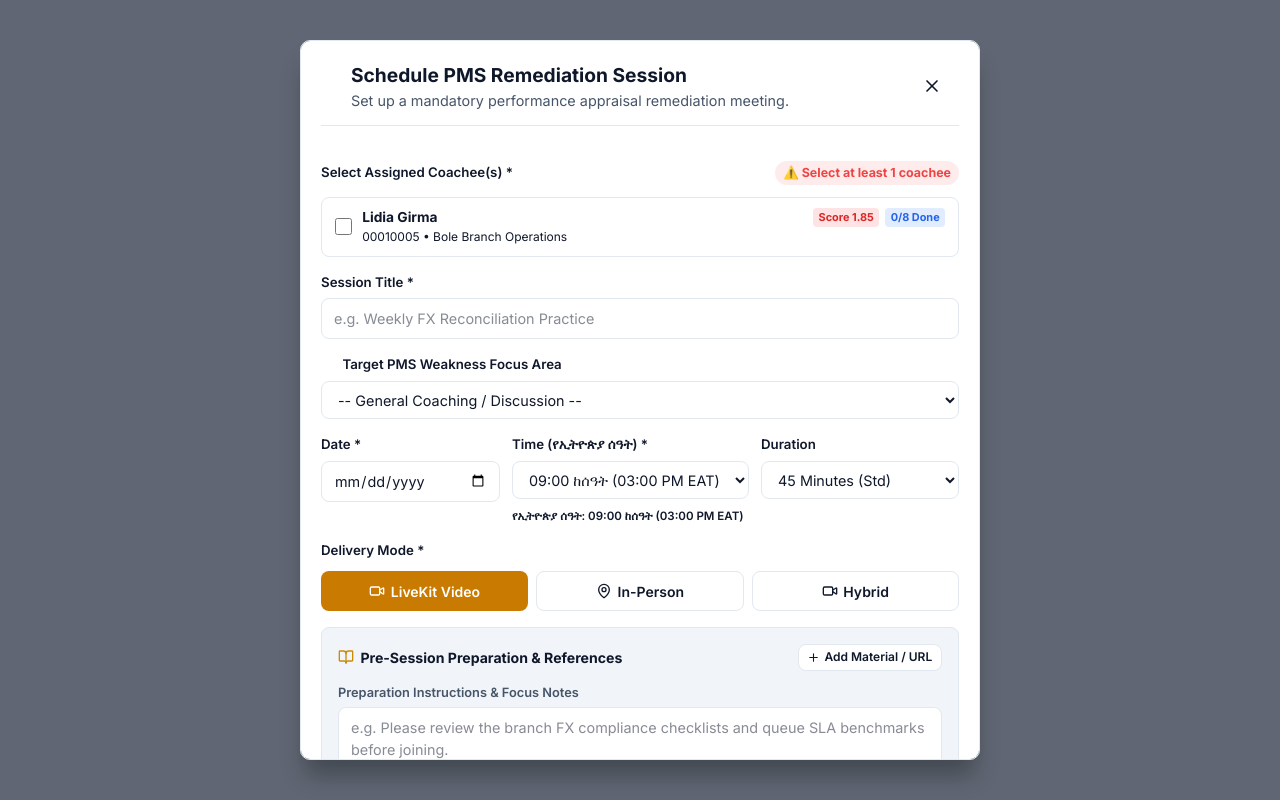
Test: Phase 2: Preparation Materials, Rescheduling & AI Controls › renders Pre-Session Preparation & References and AI automation switches in ScheduleSessionModal
Check: the text "Pre-Session Preparation & References" is shown, box [338, 647, 622, 668]
Check: the text box with placeholder "Please review the branch FX compliance checklists" is shown, box [338, 707, 942, 760]
// Click Add Material / URL button
Click the button "Add Material / URL". click: (870, 657)
box: [798, 644, 942, 671]
(page scrolled)
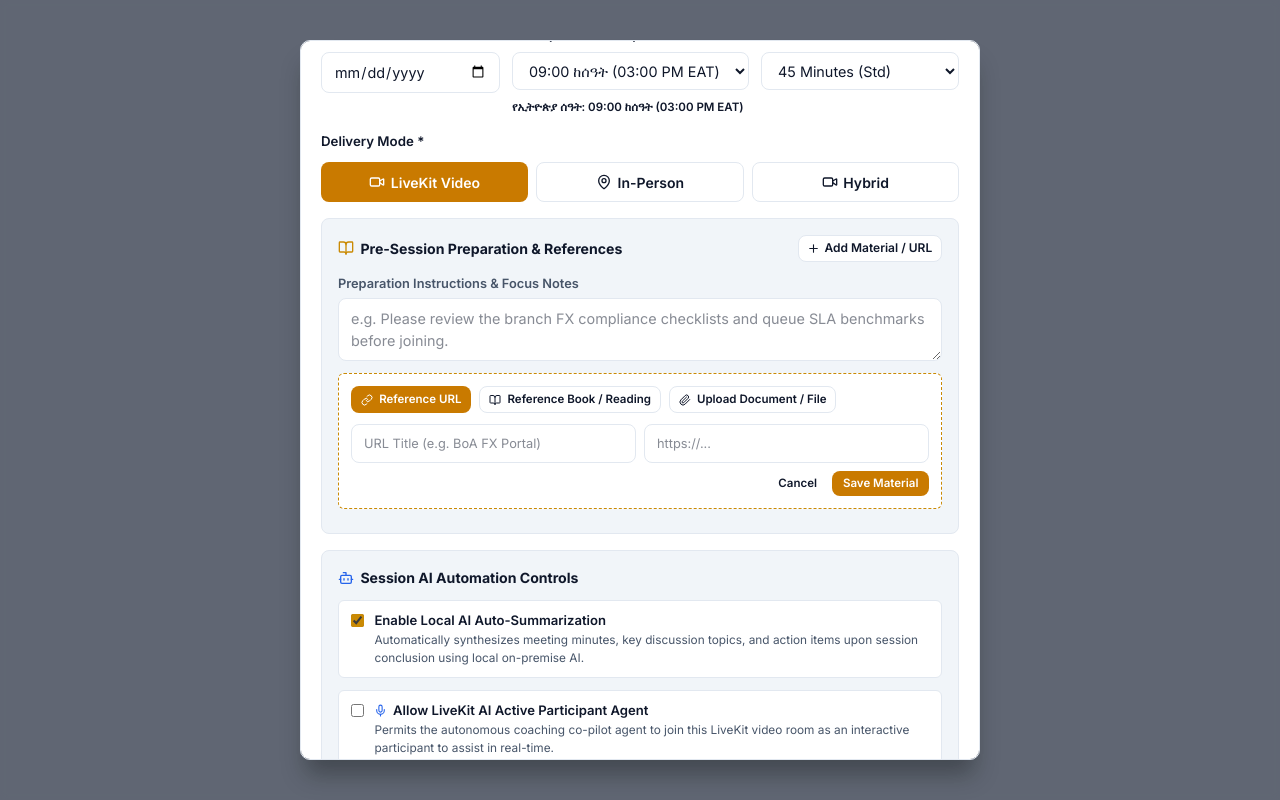
Check: the button "Reference URL" is shown, box [351, 386, 471, 413]
Check: the button "Reference Book / Reading" is shown, box [479, 386, 661, 413]
Check: the button "Upload Document / File" is shown, box [669, 386, 836, 413]
